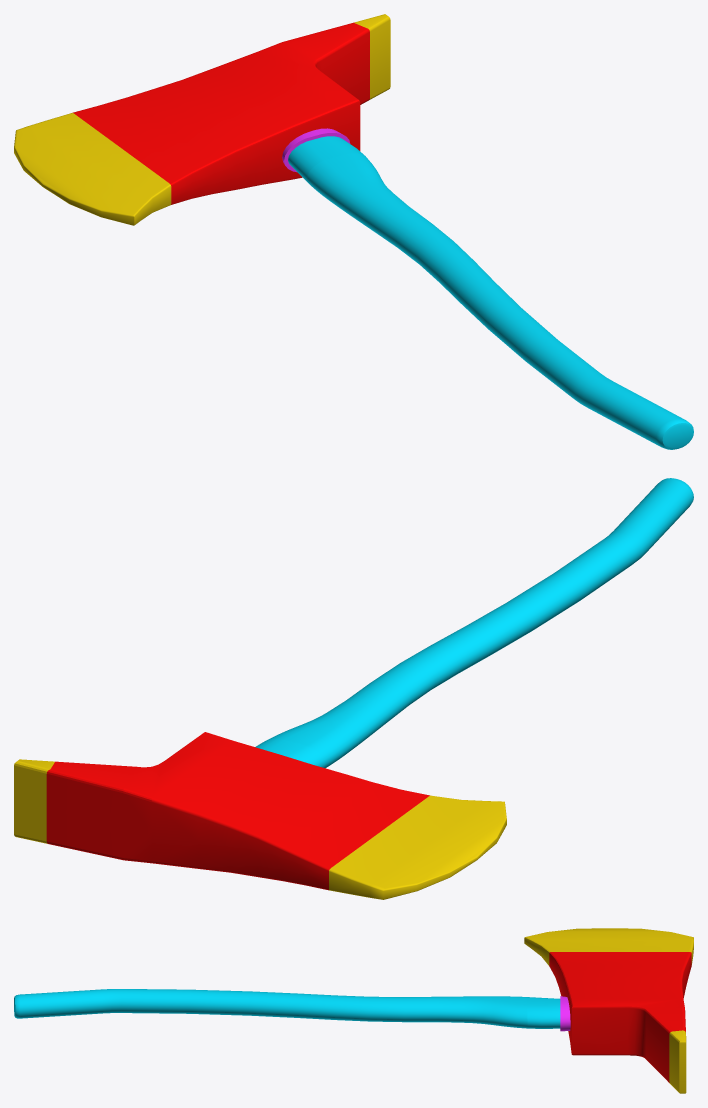
The model's file is FireAxe.fbx.
3 views of the same model, one above another, from view 1: azimuth 30°, elevation 25°; view 2: azimuth 150°, elevation 25°; view 3: azimuth 270°, elevation 25° (orthographic). The views are drawn at different scales.
Visible parts, largest first — view 1: FireAxe; view 2: FireAxe; view 3: FireAxe.
Boxes of the visible parts, x1,y1,x2,y2 form: FireAxe: [14, 14, 693, 449]; FireAxe: [14, 478, 693, 899]; FireAxe: [14, 928, 693, 1093].
Bounding box in the file's own units: 87.92 × 15.65 × 182.
